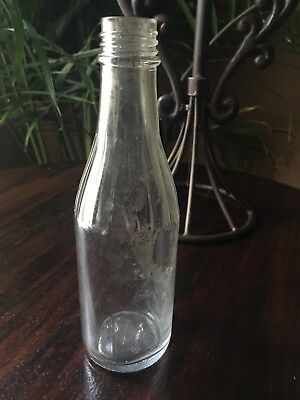glass_bottle: (68, 11, 184, 378)
